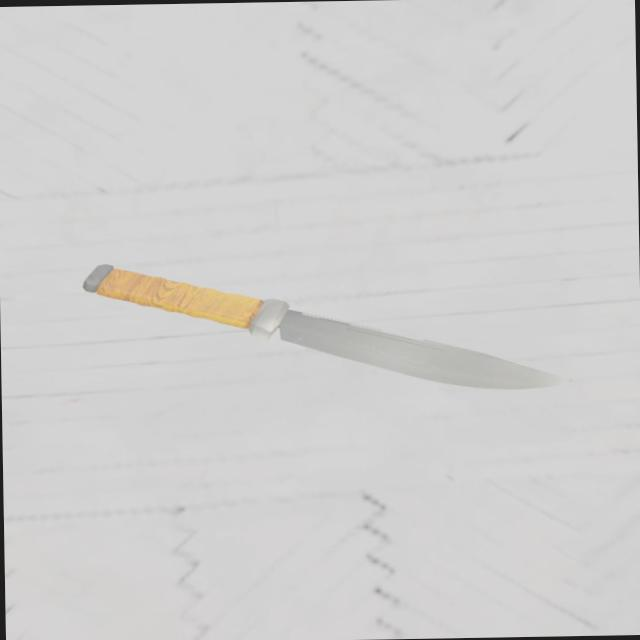knife: (88, 260, 280, 328)
